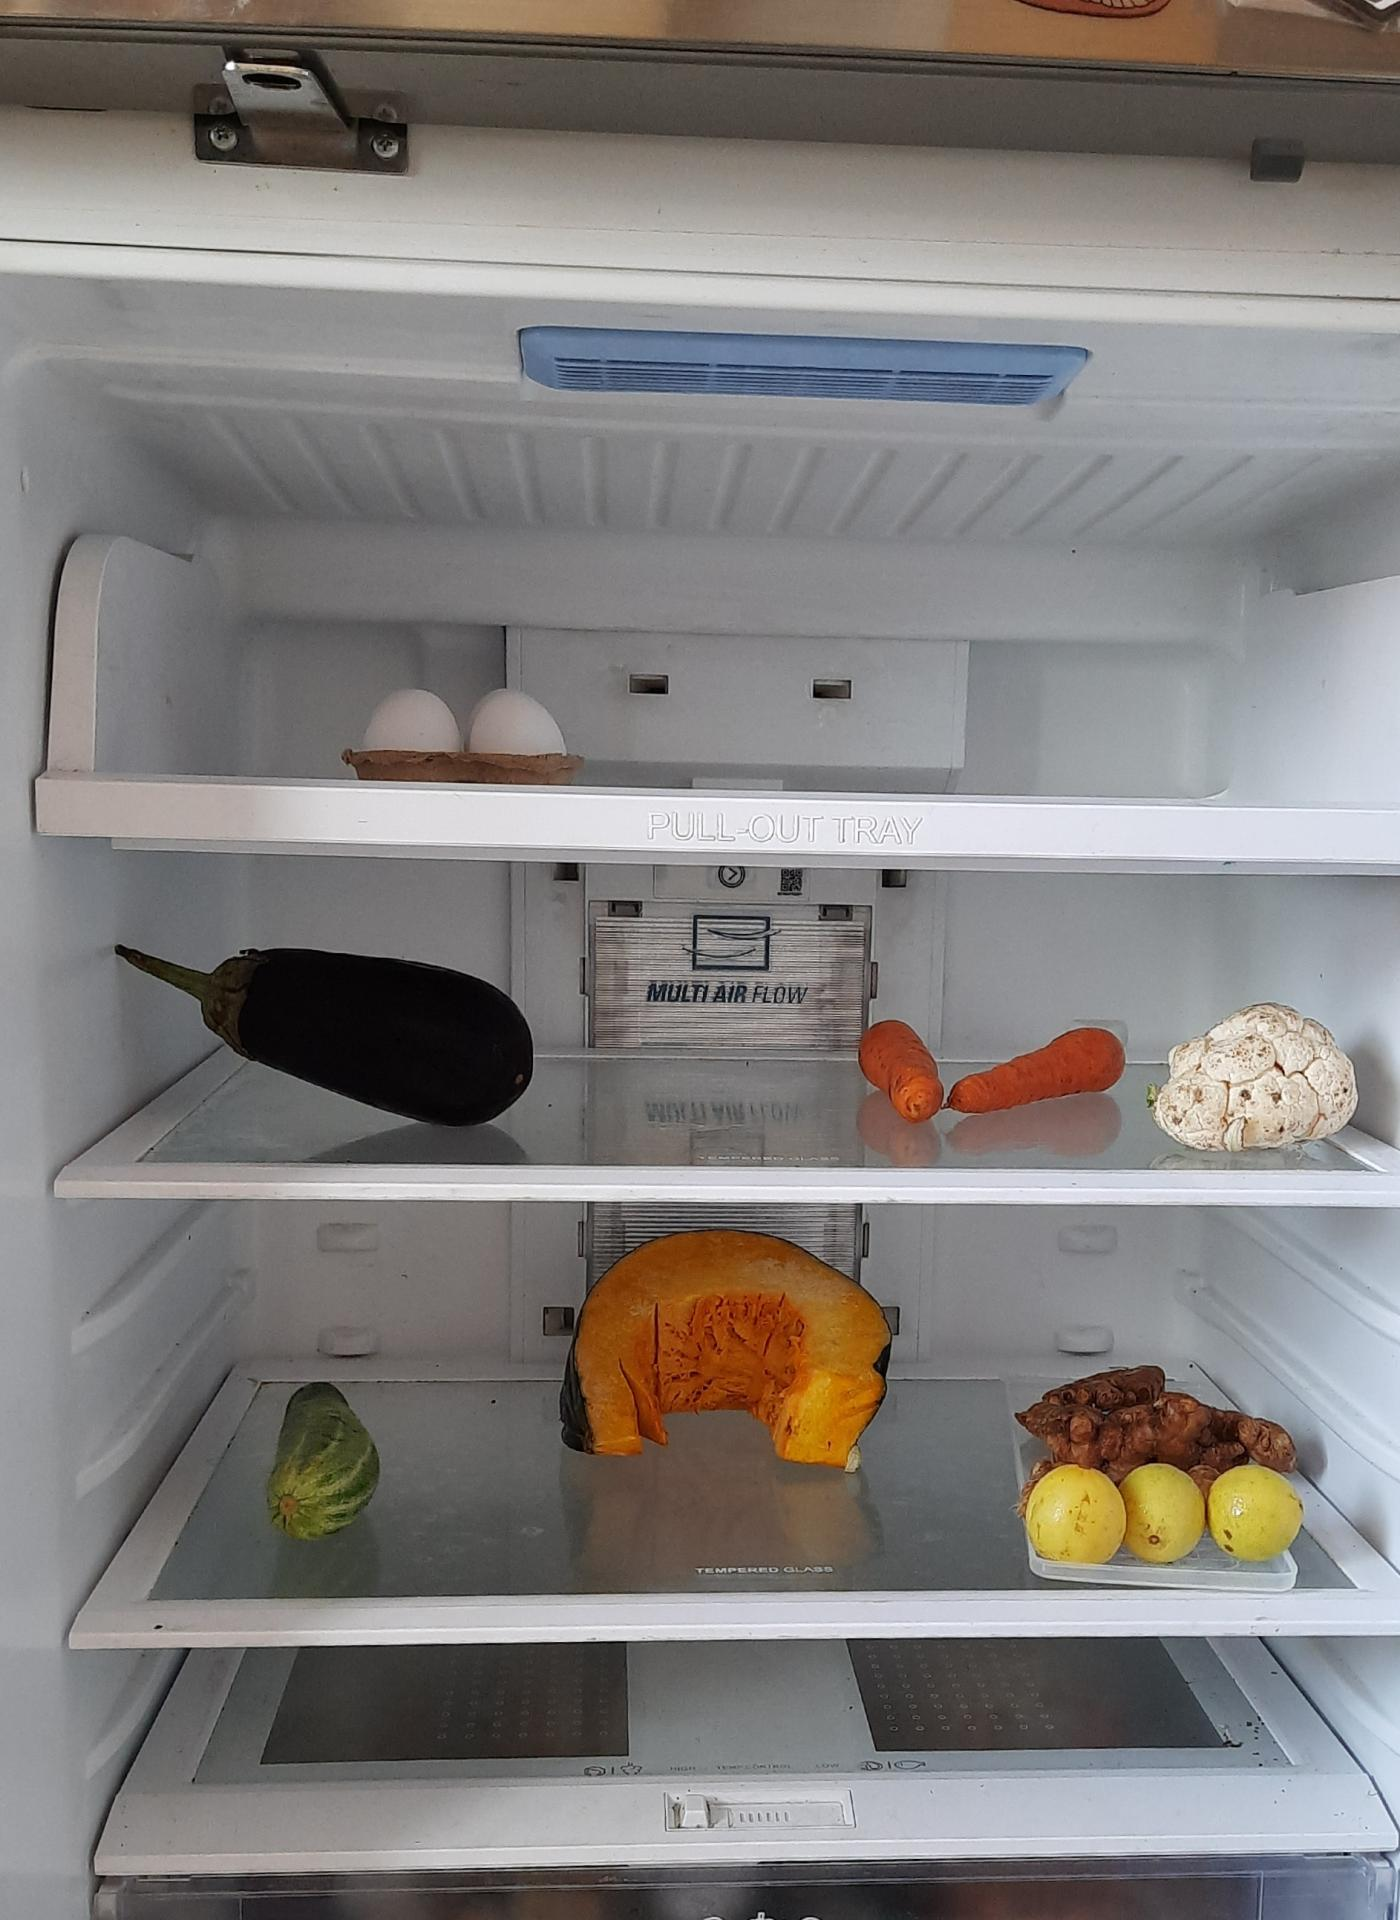brinjal: (137, 941, 552, 1125)
carrots: (932, 1023, 1121, 1115)
cauliflower: (1151, 1002, 1370, 1151)
cucumber: (259, 1367, 394, 1570)
egg: (356, 681, 581, 778)
ginger: (1029, 1360, 1328, 1467)
lemon: (1020, 1458, 1303, 1567)
pumpkin: (562, 1231, 893, 1479)
tomato: (863, 1015, 947, 1121)
